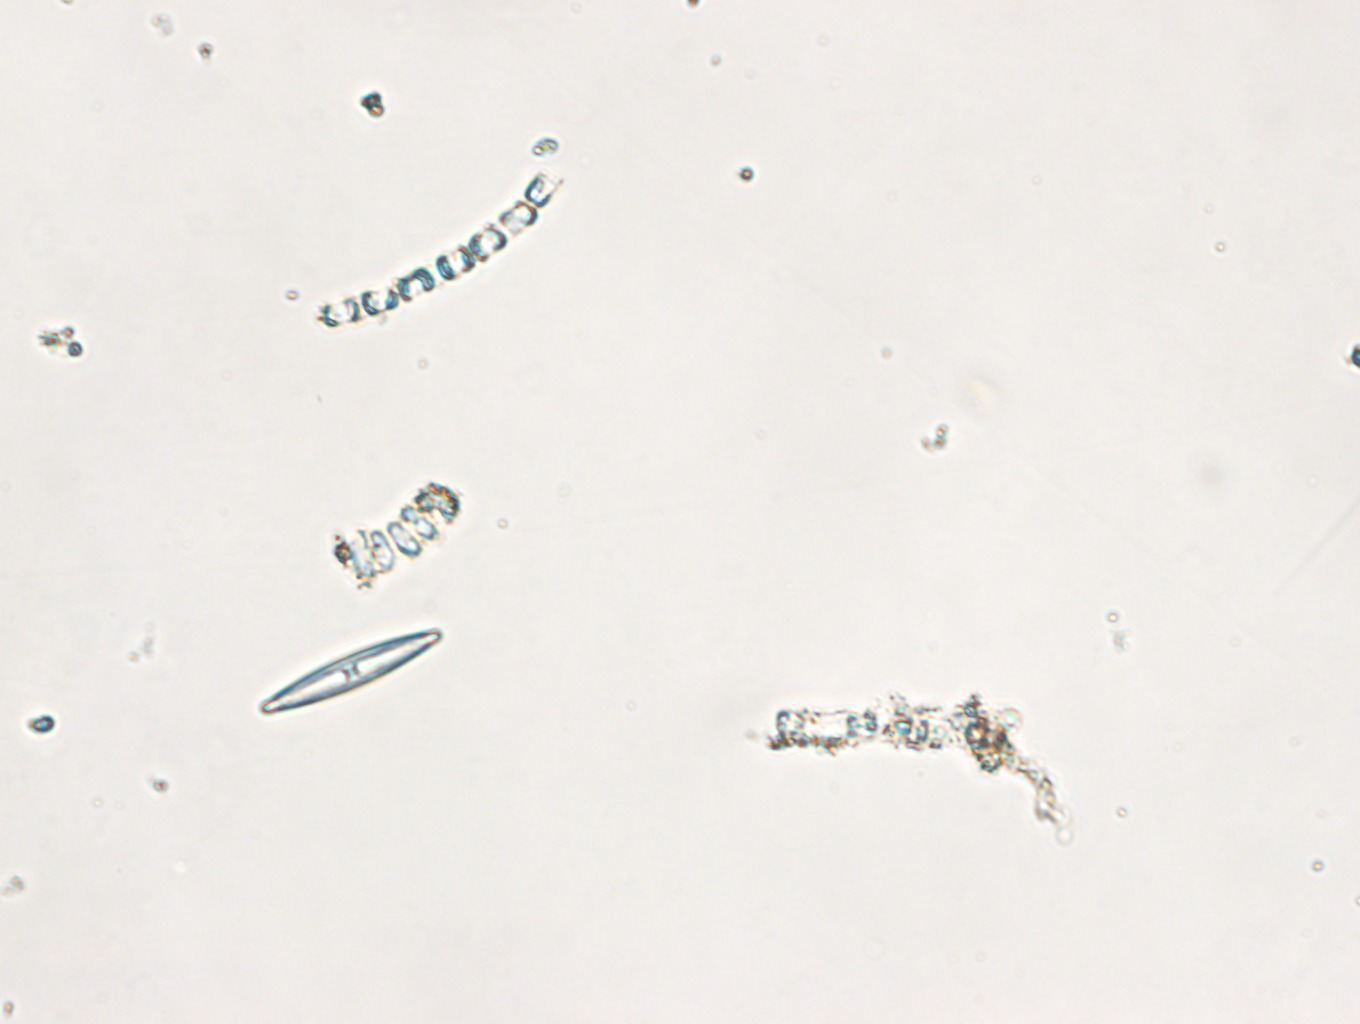navicula: (258, 630, 446, 716)
skeletonema: (313, 163, 571, 331), (341, 480, 458, 581)
